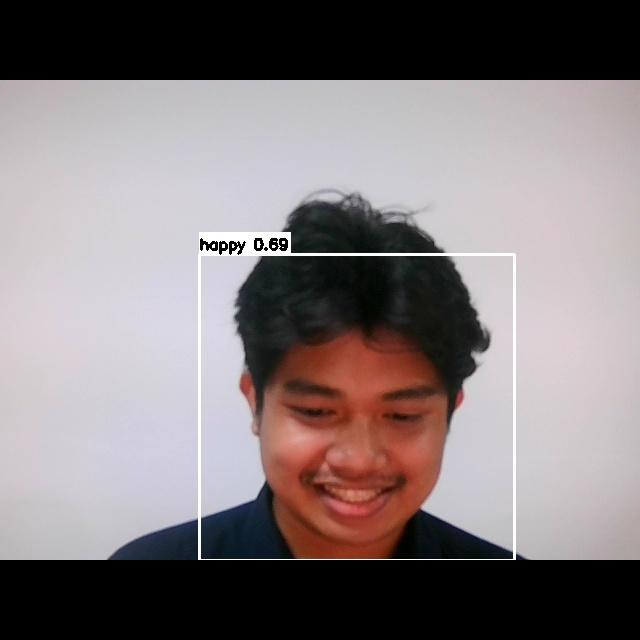Happy: (259, 349, 464, 526)
